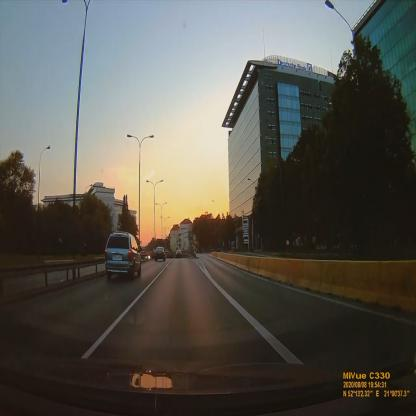cars: (105, 232, 141, 281), (154, 247, 166, 261), (176, 250, 182, 258)
